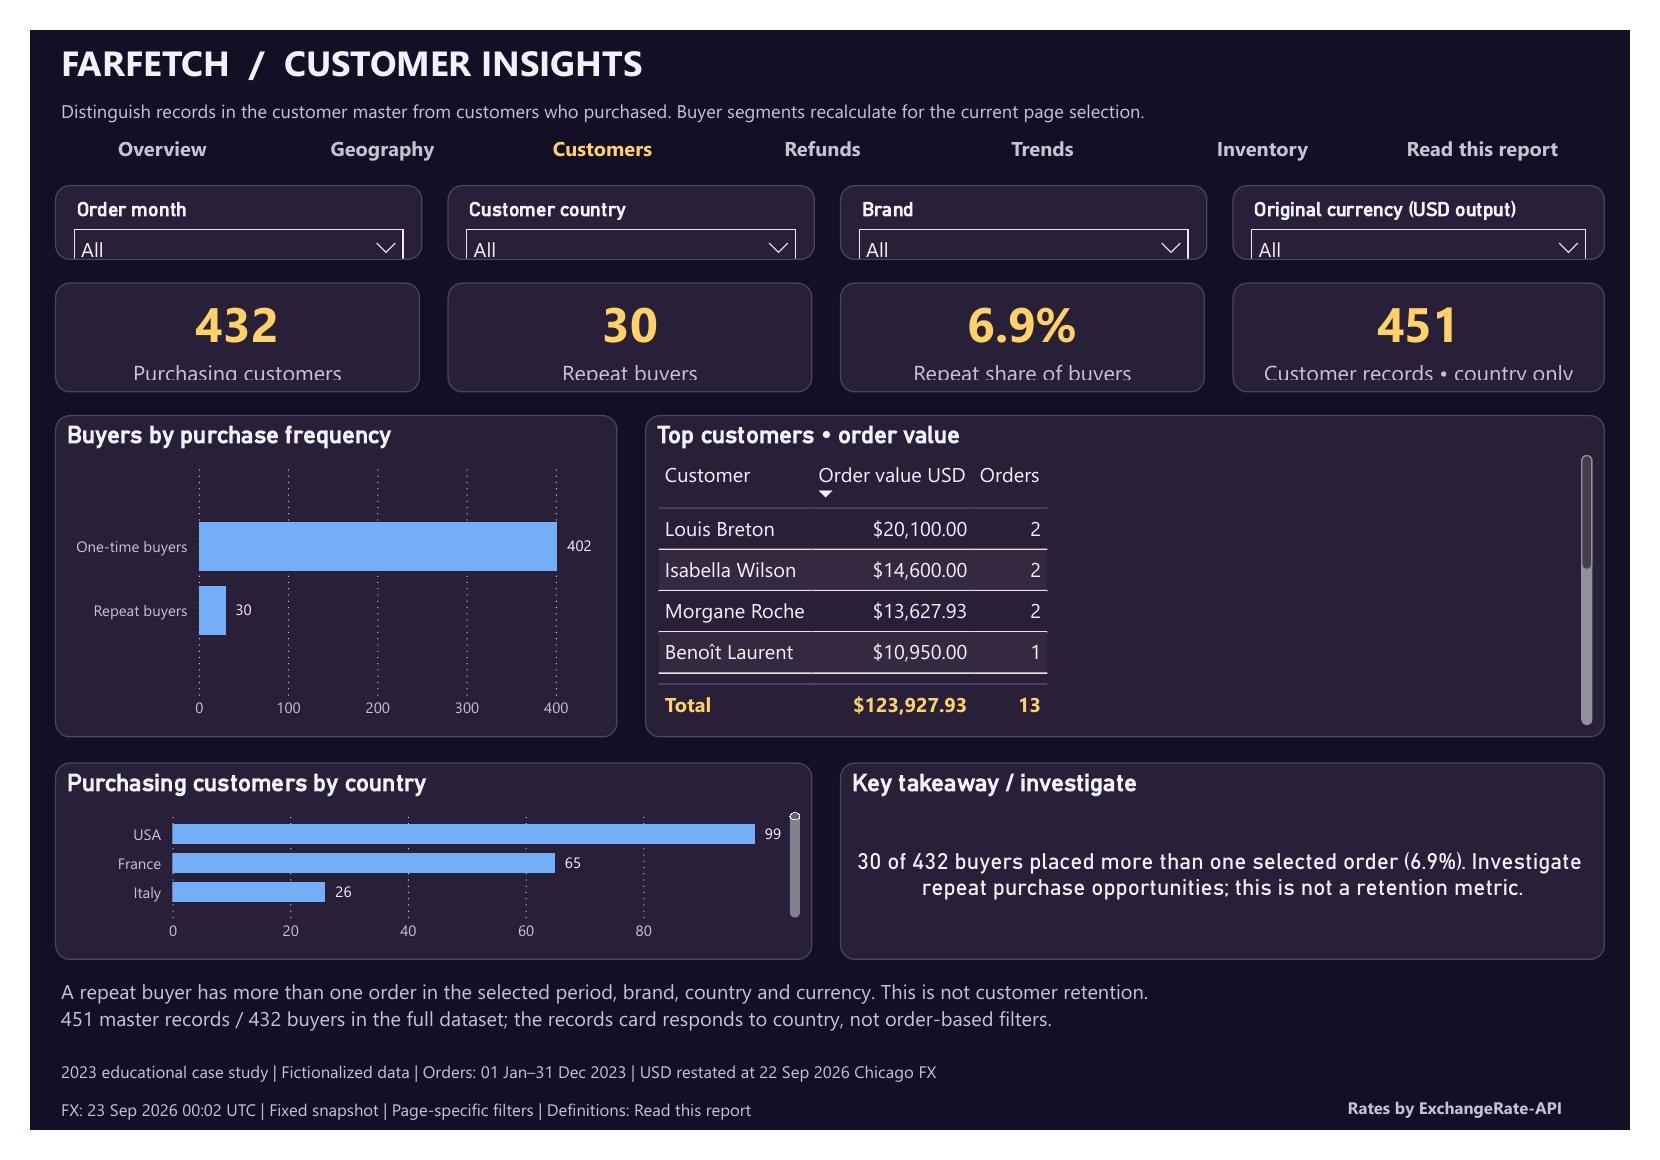

Layout of this report page (visuals, bound fields, positions):
{"tool":"powerbi","page":{"name":"Customer Insights","canvas":[1280,880],"ordinal":2},"visuals":[{"type":"textbox","box":[20,2,1238,48],"z":4900},{"type":"textbox","box":[20,50,1238,30],"z":5000},{"type":"actionButton","box":[20,78,172,32],"z":5100},{"type":"actionButton","box":[196,78,172,32],"z":5200},{"type":"actionButton","box":[372,78,172,32],"z":5300},{"type":"actionButton","box":[548,78,172,32],"z":5400},{"type":"actionButton","box":[724,78,172,32],"z":5500},{"type":"actionButton","box":[900,78,172,32],"z":5600},{"type":"actionButton","box":[1076,78,172,32],"z":5700},{"type":"slicer","fields":{"Values":["Calendar.Year Month"]},"box":[20,124,294,60],"z":5800},{"type":"slicer","fields":{"Values":["customers.country"]},"box":[334,124,294,60],"z":5900},{"type":"slicer","fields":{"Values":["products.brand"]},"box":[648,124,294,60],"z":6000},{"type":"slicer","fields":{"Values":["orders.currency"]},"box":[962,124,298,60],"z":6100},{"type":"textbox","box":[20,820,1240,30],"z":6200},{"type":"textbox","box":[20,850,990,28],"z":6300},{"type":"card","fields":{"Values":["measures (2).Purchasing Customers"]},"box":[20,202,292,88],"z":6400},{"type":"card","fields":{"Values":["measures (2).Repeat Buyers"]},"box":[334,202,292,88],"z":6500},{"type":"card","fields":{"Values":["measures (2).Repeat Buyer Rate"]},"box":[648,202,292,88],"z":6600},{"type":"card","fields":{"Values":["measures (2).Customer Records"]},"box":[962,202,298,88],"z":6700},{"type":"clusteredBarChart","title":"Buyers by purchase frequency","fields":{"Category":["Segments.Segment"],"Y":["measures (2).Segment Customers"]},"box":[20,308,450,258],"z":6800},{"type":"tableEx","title":"Top customers • order value","fields":{"Values":["customers.name","measures (2).Order Value USD","measures (2).Orders"]},"box":[492,308,768,258],"z":6900},{"type":"clusteredBarChart","title":"Purchasing customers by country","fields":{"Category":["customers.country"],"Y":["measures (2).Purchasing Customers"]},"box":[20,586,606,158],"z":7000},{"type":"card","title":"Key takeaway / investigate","fields":{"Values":["measures (2).Customer Takeaway"]},"box":[648,586,612,158],"z":7100},{"type":"textbox","box":[20,754,1240,60],"z":7200},{"type":"actionButton","box":[1020,850,240,24],"z":15800}]}

Visuals, with their boxes in screenshot pixels (x1, y1, x2, y2), scaled from the page's 1280x880 canvas onto the 1660x1160 screenshot:
textbox: locate(26, 3, 1631, 66)
textbox: locate(26, 66, 1631, 105)
actionButton: locate(26, 103, 249, 145)
actionButton: locate(254, 103, 477, 145)
actionButton: locate(482, 103, 706, 145)
actionButton: locate(711, 103, 934, 145)
actionButton: locate(939, 103, 1162, 145)
actionButton: locate(1167, 103, 1390, 145)
actionButton: locate(1395, 103, 1618, 145)
slicer - Calendar.Year Month: locate(26, 163, 407, 243)
slicer - customers.country: locate(433, 163, 814, 243)
slicer - products.brand: locate(840, 163, 1222, 243)
slicer - orders.currency: locate(1248, 163, 1634, 243)
textbox: locate(26, 1081, 1634, 1120)
textbox: locate(26, 1120, 1310, 1157)
card - measures (2).Purchasing Customers: locate(26, 266, 405, 382)
card - measures (2).Repeat Buyers: locate(433, 266, 812, 382)
card - measures (2).Repeat Buyer Rate: locate(840, 266, 1219, 382)
card - measures (2).Customer Records: locate(1248, 266, 1634, 382)
"Buyers by purchase frequency" clusteredBarChart: locate(26, 406, 610, 746)
"Top customers • order value" tableEx: locate(638, 406, 1634, 746)
"Purchasing customers by country" clusteredBarChart: locate(26, 772, 812, 981)
"Key takeaway / investigate" card: locate(840, 772, 1634, 981)
textbox: locate(26, 994, 1634, 1073)
actionButton: locate(1323, 1120, 1634, 1152)
